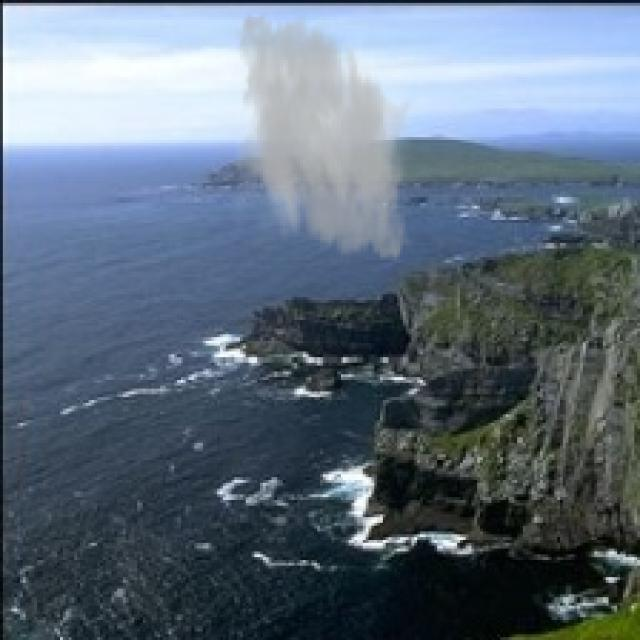smoke: (220, 3, 420, 271)
